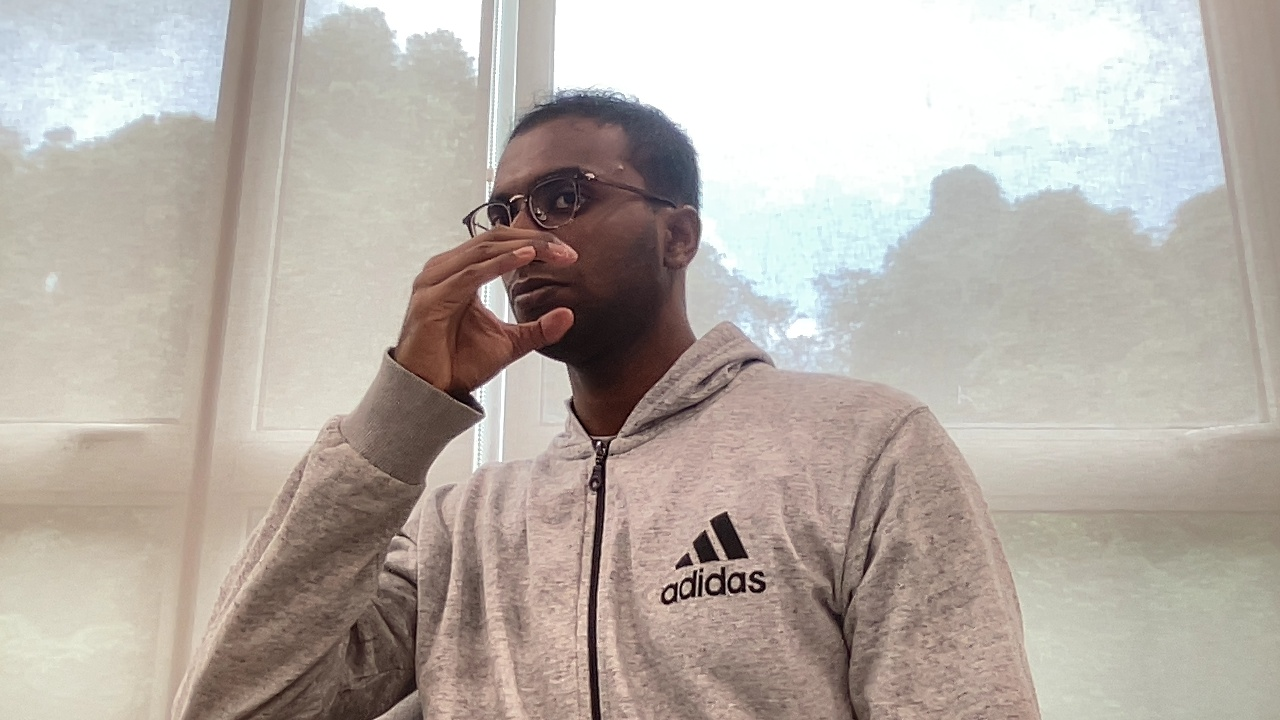drink: (395, 222, 583, 399)
